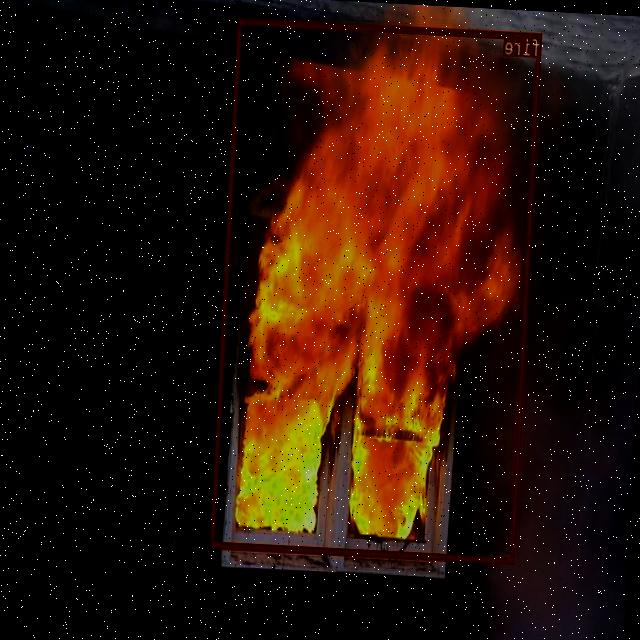fire: (212, 16, 543, 564)
